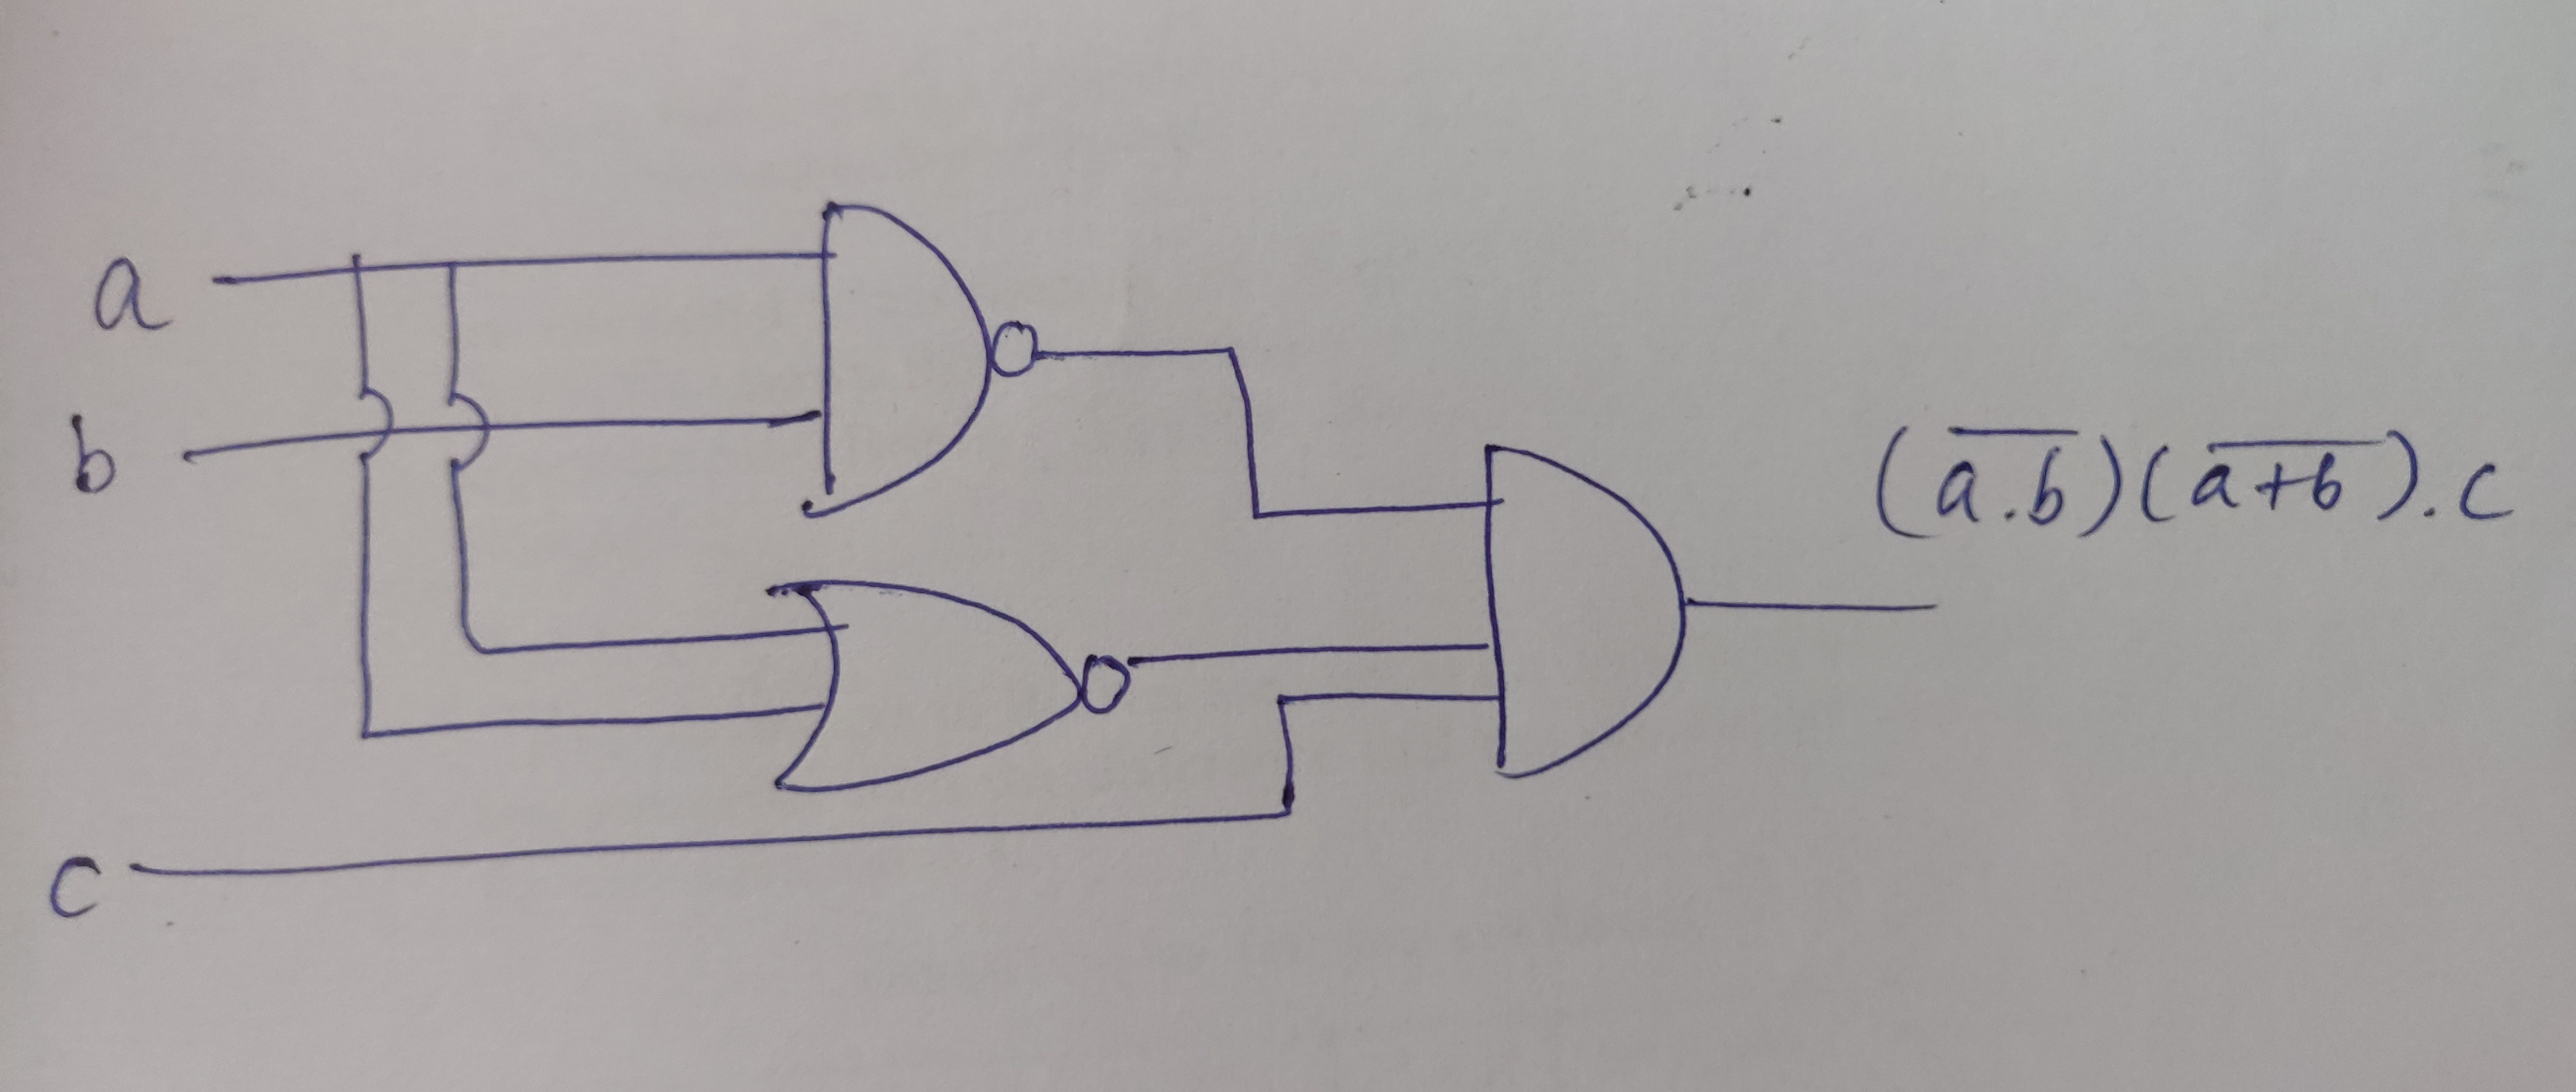and: (1406, 397, 1758, 813)
nand: (695, 151, 1066, 545)
nor: (738, 562, 1153, 790)
